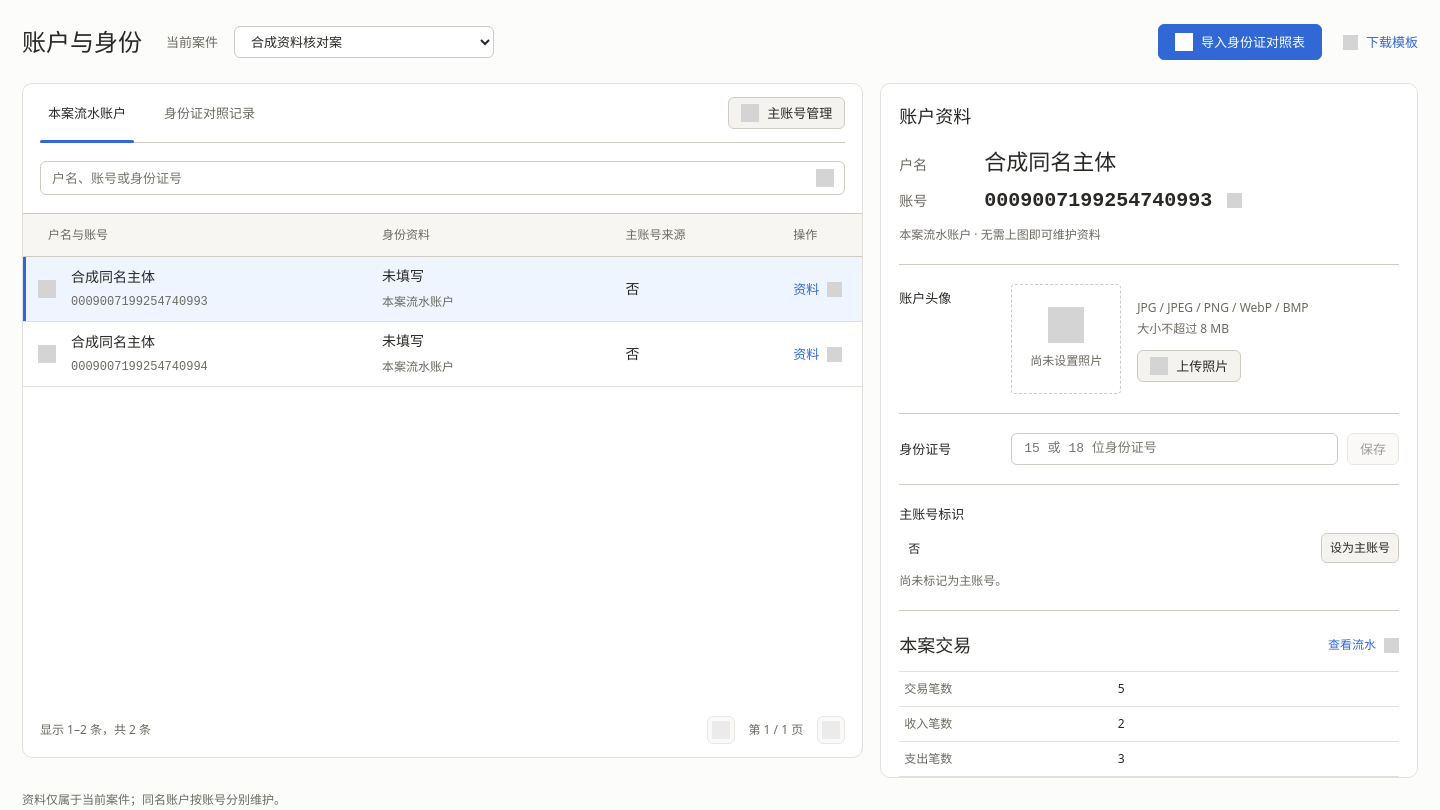
Test: AccountWorkspace › keeps same-name accounts separate and shows exact multi-currency totals without requiring graph membership
This screenshot has width=1440, height=810.
Expected: the field labelled "身份证号" is shown, [1011,433,1338,465]
Expected: the text "本案流水账户 · 无需上图即可维护资料" is shown, [899,226,1101,243]
What coordinates should you click on to do the following:
click the button "合成同名主体 0009007199254740994"
I would click on:
 (113, 341)
Its box is [38,332,352,376].
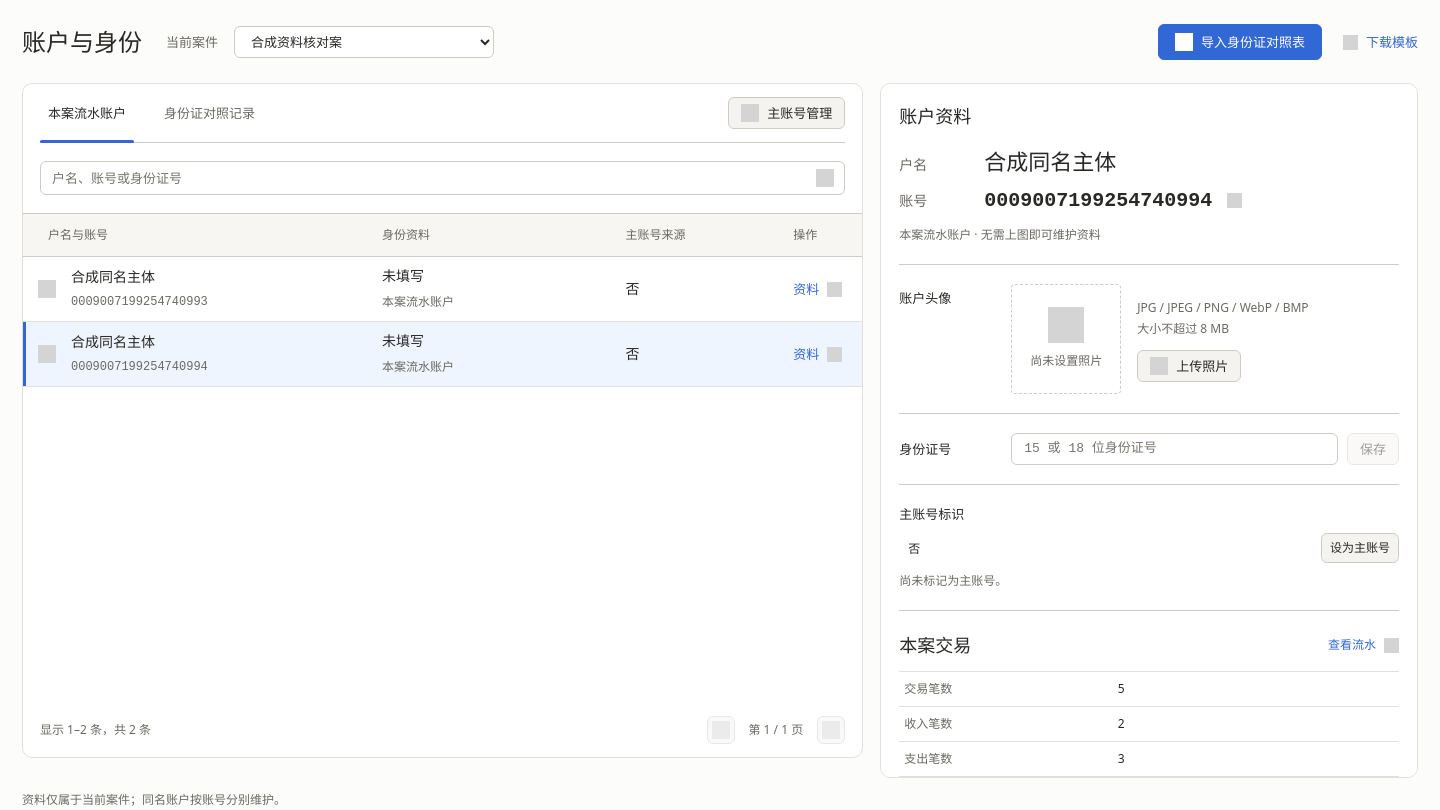
Expected: the field labelled "身份证号" is shown, [1011,433,1338,465]
Result: the text "0009007199254740994" below "账户资料" is shown at [984,188,1212,212]
